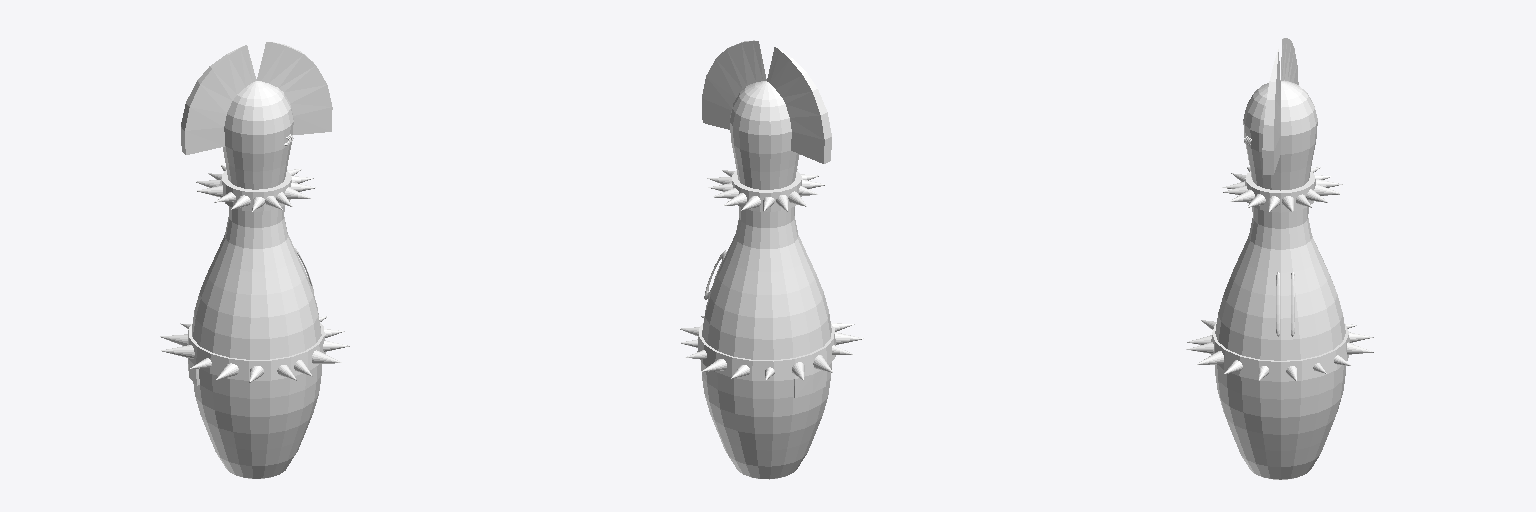
The model's file is PunkPinTex.obj.
The picture shows the model from 3 angles: view 1: azimuth 30°, elevation 25°; view 2: azimuth 150°, elevation 25°; view 3: azimuth 270°, elevation 25°; orthographic projection.
Visible parts, largest first — view 1: pTorus7, initialShadingGroup pTorus7; view 2: pTorus7, initialShadingGroup pTorus7; view 3: pTorus7, initialShadingGroup pTorus7.
Boxes of the visible parts, box(x1,y1,x2,y2) form: pTorus7: box(181, 42, 332, 478); initialShadingGroup pTorus7: box(160, 134, 349, 382); pTorus7: box(697, 40, 835, 479); initialShadingGroup pTorus7: box(680, 168, 863, 380); pTorus7: box(1211, 38, 1349, 479); initialShadingGroup pTorus7: box(1186, 136, 1373, 380).
Bounding box in the file's own units: 5.7 × 14.28 × 5.74.